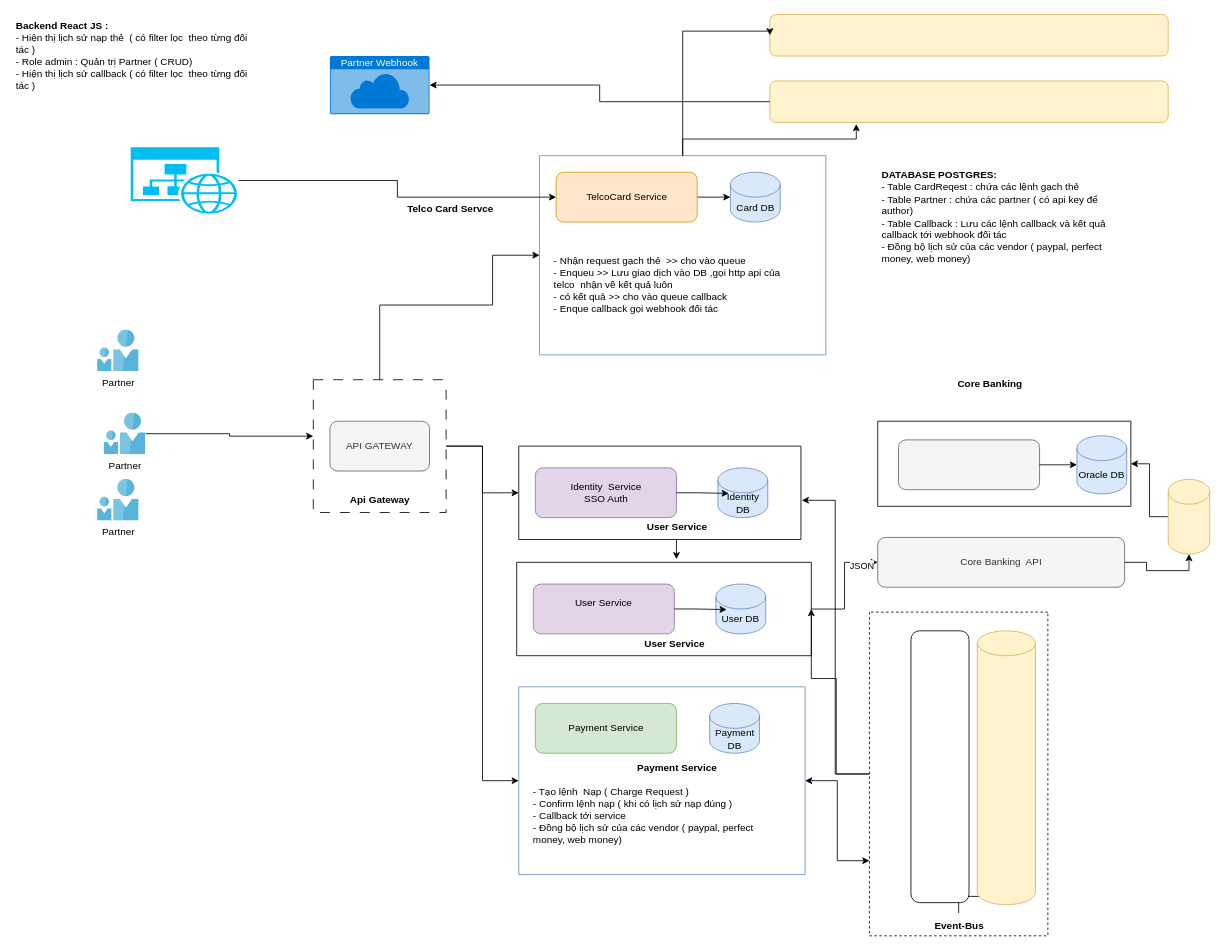
The diagram is 1224 pixels wide and 952 high, and some of its shapes have lost their labels. The box of each missing label's shape, as (x1, y1, x2, y2) in pixels:
Callback Queue ( Rabbit MQ) FIFO các lệnh callback ( để hệ thống k bị quá tải): (769, 80, 1168, 122)
Card Queue ( Rabbit MQ) FIFO các lệnh gạch thẻ ( để hệ thống k bị quá tải): (769, 14, 1168, 56)
Core banking (JAVA): (898, 439, 1040, 490)
Event Service: (910, 630, 969, 903)
EventDB (RabitMQ OR Redis): (976, 630, 1035, 905)
FE REACCT JS: (130, 147, 238, 213)
Redis: (1167, 478, 1210, 554)
